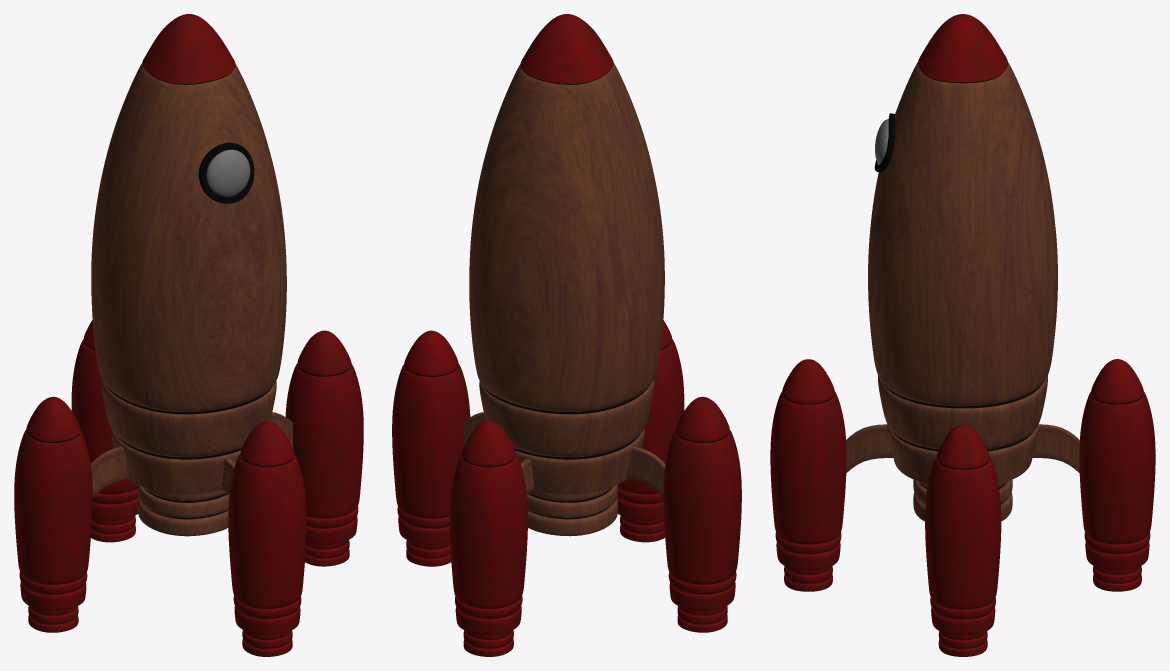
File: Rocket_PuzzleItem.fbx
3 renders of one model, left to right at view 1: azimuth 30°, elevation 25°; view 2: azimuth 150°, elevation 25°; view 3: azimuth 270°, elevation 25°, orthographic.
Visible parts, largest first — view 1: Cube, Cube.011, Cube.002; view 2: Cube, Cube.011; view 3: Cube, Cube.011.
Boxes of the visible parts, x1,y1,x2,y2 form: Cube: [90, 63, 292, 536]; Cube.011: [14, 14, 363, 656]; Cube.002: [206, 149, 250, 196]; Cube: [462, 63, 665, 536]; Cube.011: [392, 14, 741, 656]; Cube: [846, 62, 1079, 521]; Cube.011: [770, 14, 1155, 656].
Size of the model in its own units: 461 by 747 by 461.
